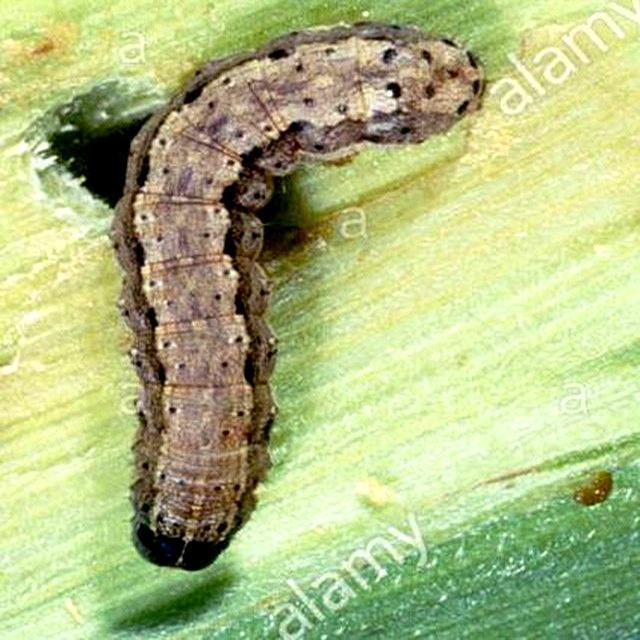gusano_cogollero: (104, 15, 490, 575)
